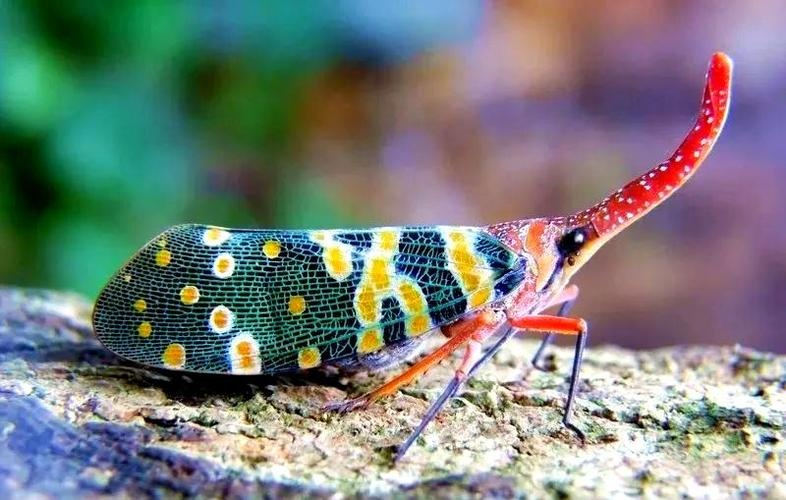Stink_Bug: (109, 102, 696, 370)
